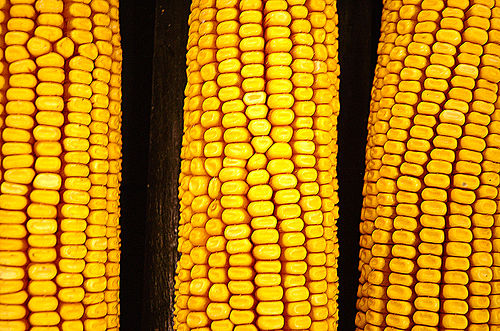corn: (169, 0, 338, 330), (356, 1, 499, 330), (0, 0, 122, 330)
